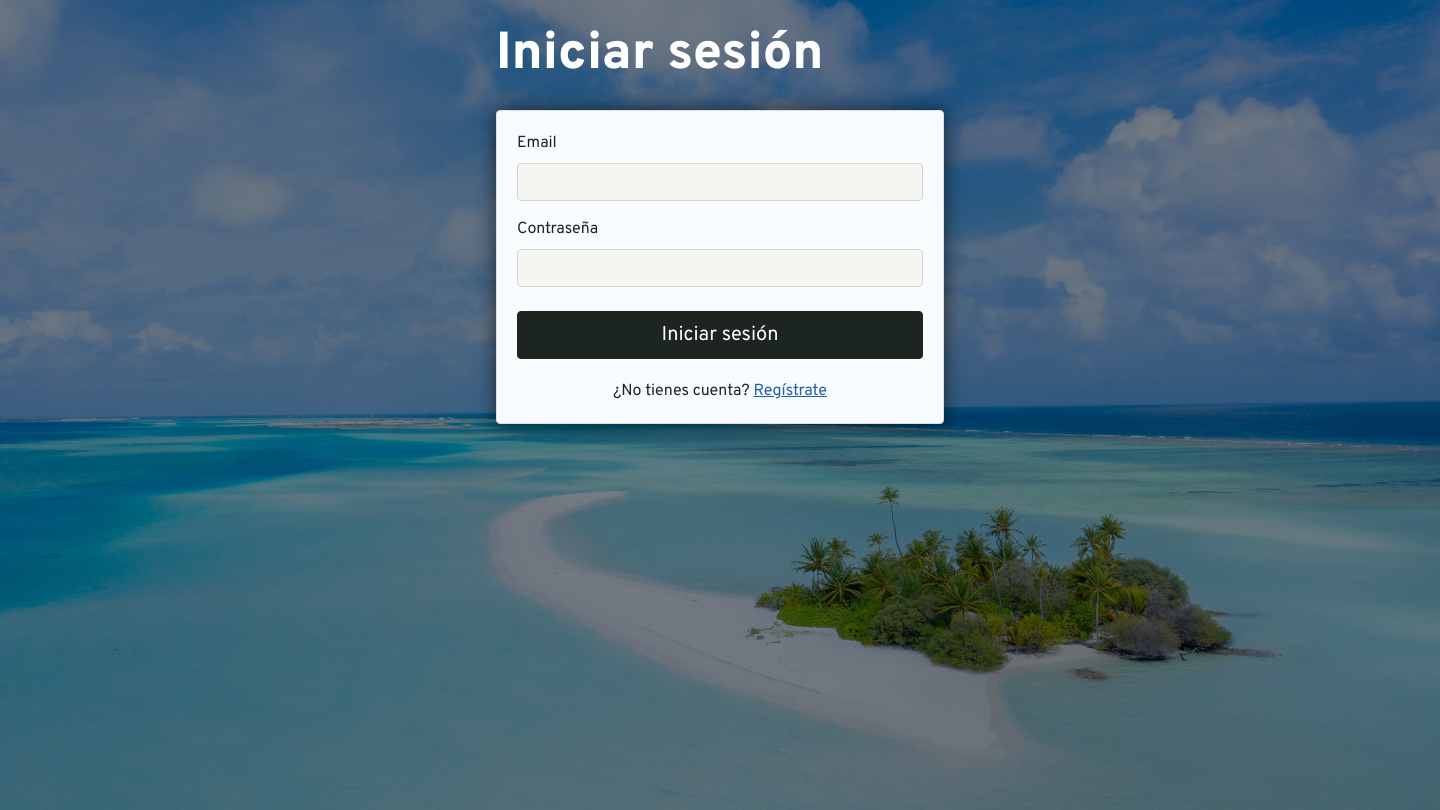
Scenario: B2 LoginPage › empty fields show messages and nothing is sent
The image size is (1440, 810).
Click the button "Iniciar sesión". click: (720, 335)
box: top-left (517, 311), bottom-right (923, 359)
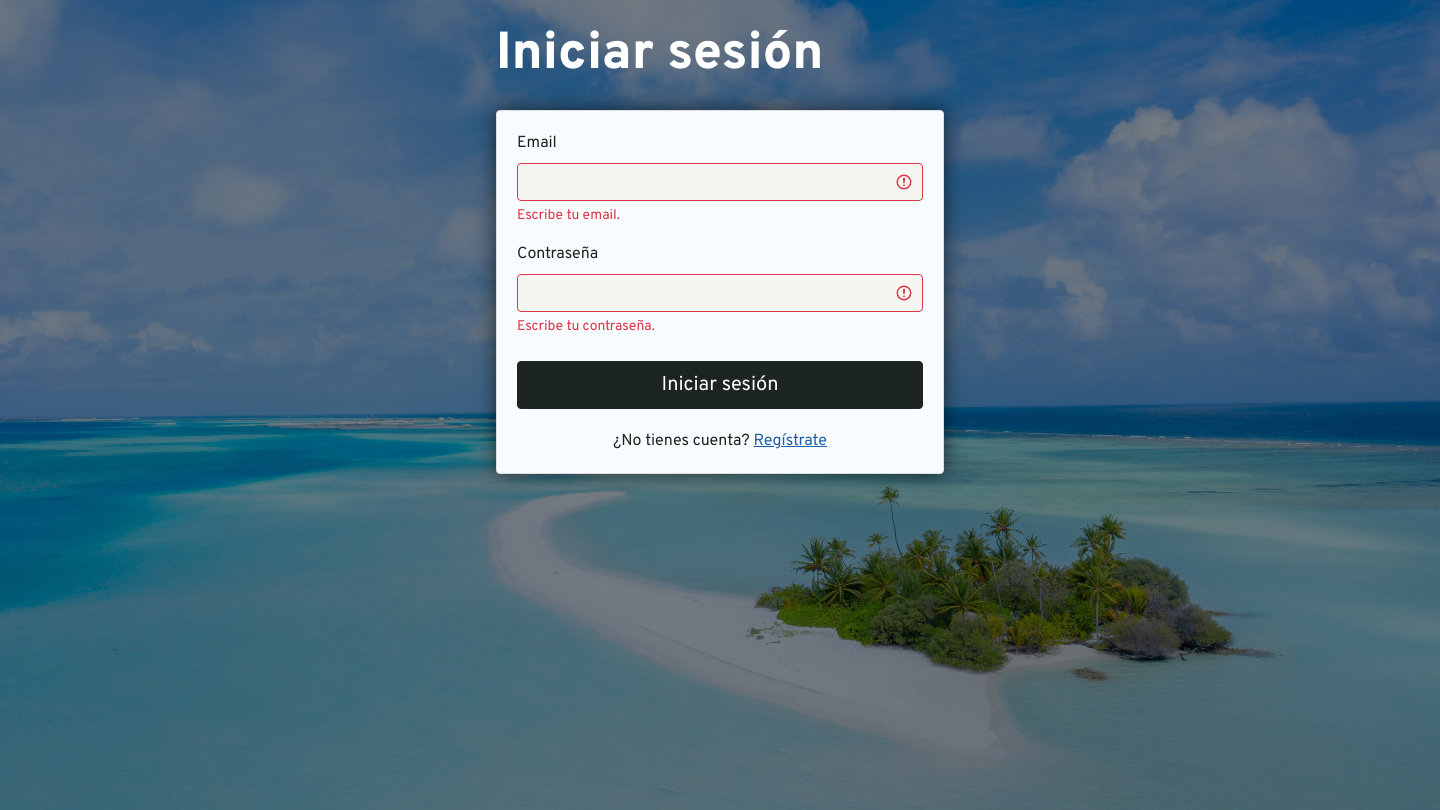
Result: the text "Escribe tu email." is shown at top-left (517, 207), bottom-right (620, 224)
Result: the text "Escribe tu contraseña." is shown at top-left (517, 318), bottom-right (655, 335)
